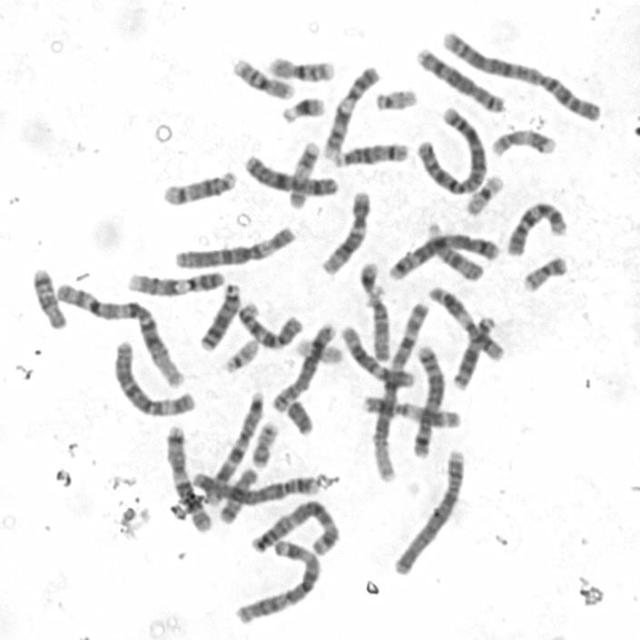A1: (51, 277, 187, 390), (368, 298, 432, 484)
A2: (436, 25, 604, 123), (411, 102, 488, 197)
A3: (229, 533, 324, 626), (246, 494, 343, 559)
B4: (390, 443, 468, 577), (188, 464, 321, 506)
B5: (385, 228, 504, 282), (409, 341, 446, 459)
C10: (502, 196, 570, 257), (233, 296, 305, 351)
C11: (426, 281, 507, 363), (357, 389, 464, 430)
C12: (337, 319, 419, 388), (318, 185, 373, 276)
C6: (109, 335, 197, 417), (170, 221, 300, 271)
C7: (200, 386, 267, 507), (162, 421, 214, 534)
C8: (412, 42, 508, 114), (268, 319, 338, 413)
C9: (319, 60, 382, 162), (122, 265, 228, 298)
D13: (448, 310, 498, 391), (195, 278, 242, 353)
D14: (157, 163, 241, 207), (330, 136, 412, 169)
D15: (424, 220, 486, 283), (361, 289, 393, 363)
E16: (227, 52, 296, 101), (264, 50, 338, 83)
E17: (284, 137, 322, 210), (487, 122, 559, 158)
E18: (28, 262, 70, 330), (217, 464, 261, 524)
F19: (461, 169, 507, 217), (293, 333, 345, 366)
F20: (518, 250, 571, 293), (248, 416, 280, 469)
G21: (277, 91, 328, 125), (356, 256, 387, 296)
G22: (220, 333, 262, 374), (370, 82, 420, 112)
X: (239, 149, 340, 197)
Y: (282, 394, 317, 436)
